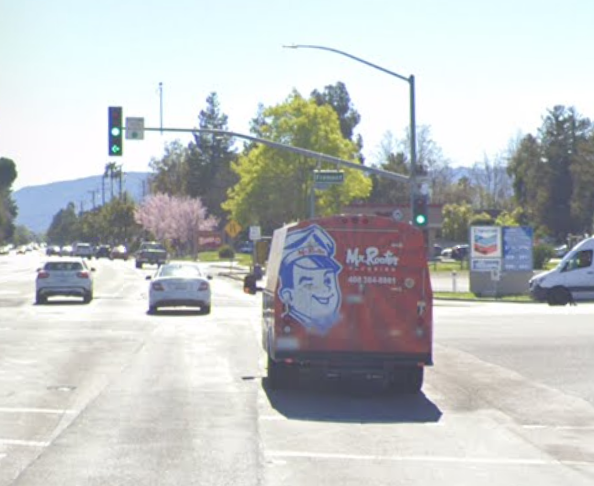green_light: (412, 195, 427, 227), (110, 107, 122, 141)
